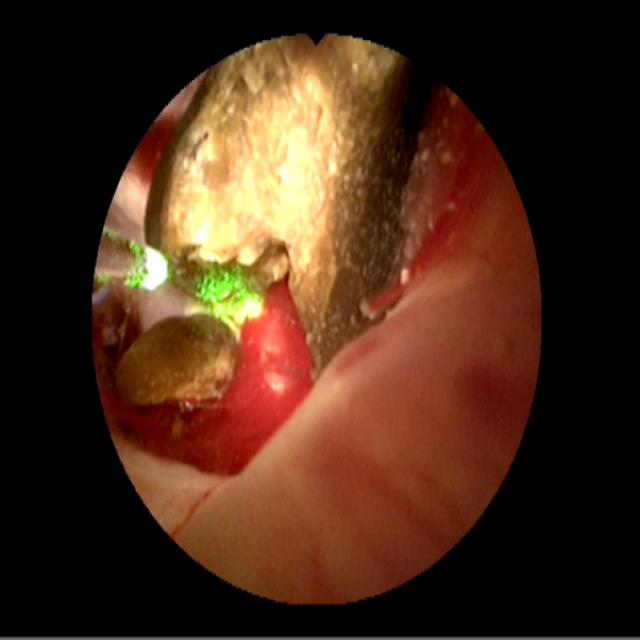stone: (145, 40, 434, 376), (115, 315, 238, 411)
tissue: (108, 102, 533, 593)
